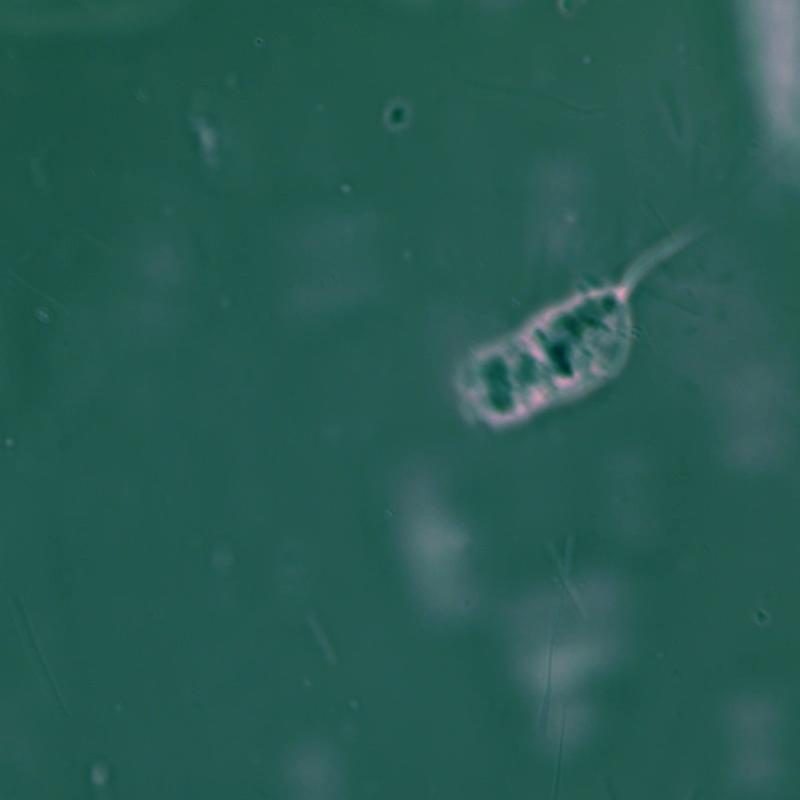depth:60: (430, 213, 747, 436)
